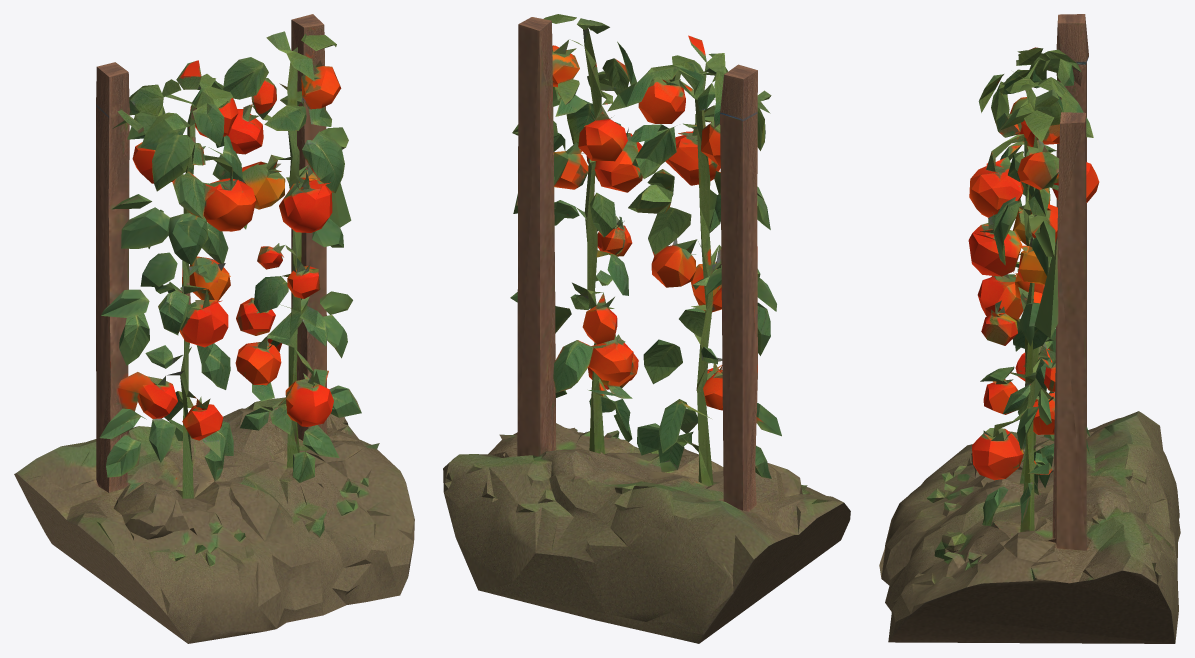
The model's file is tomato_plants.glb.
The picture shows the model from 3 angles, left to right: view 1: azimuth 30°, elevation 25°; view 2: azimuth 150°, elevation 25°; view 3: azimuth 270°, elevation 25°; orthographic projection. The views are drawn at different scales.
Bounding box in the file's own units: 1.21 × 1.9 × 0.9794.
Materials: 1 (1 with a texture image).
